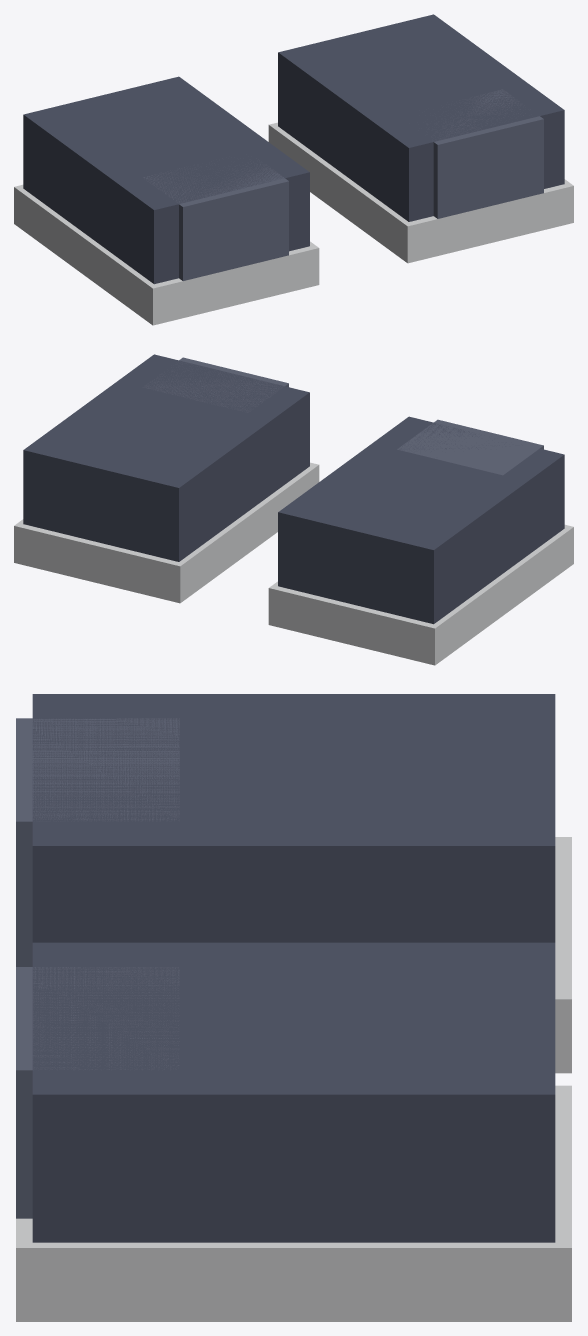
Rendered from av_shoes_black_sneakers.glb.
3 renders of one model, top to bottom at view 1: azimuth 30°, elevation 25°; view 2: azimuth 150°, elevation 25°; view 3: azimuth 270°, elevation 25°, orthographic. The views are drawn at different scales.
Bounding box in the file's own units: 0.595 × 0.15 × 0.34.
